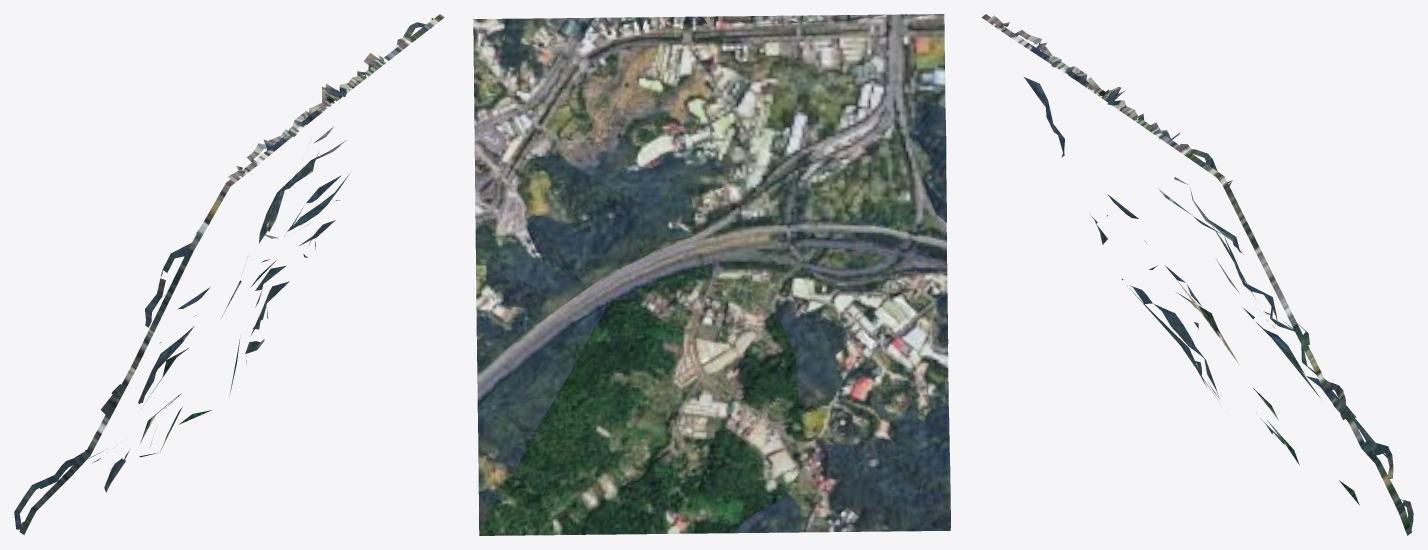
3 renders of one model, left to right at view 1: azimuth 30°, elevation 25°; view 2: azimuth 150°, elevation 25°; view 3: azimuth 270°, elevation 25°, orthographic. The views are drawn at different scales.
Size of the model in its own units: 1260 by 1126 by 1058.
Materials: 1 (1 with a texture image).
